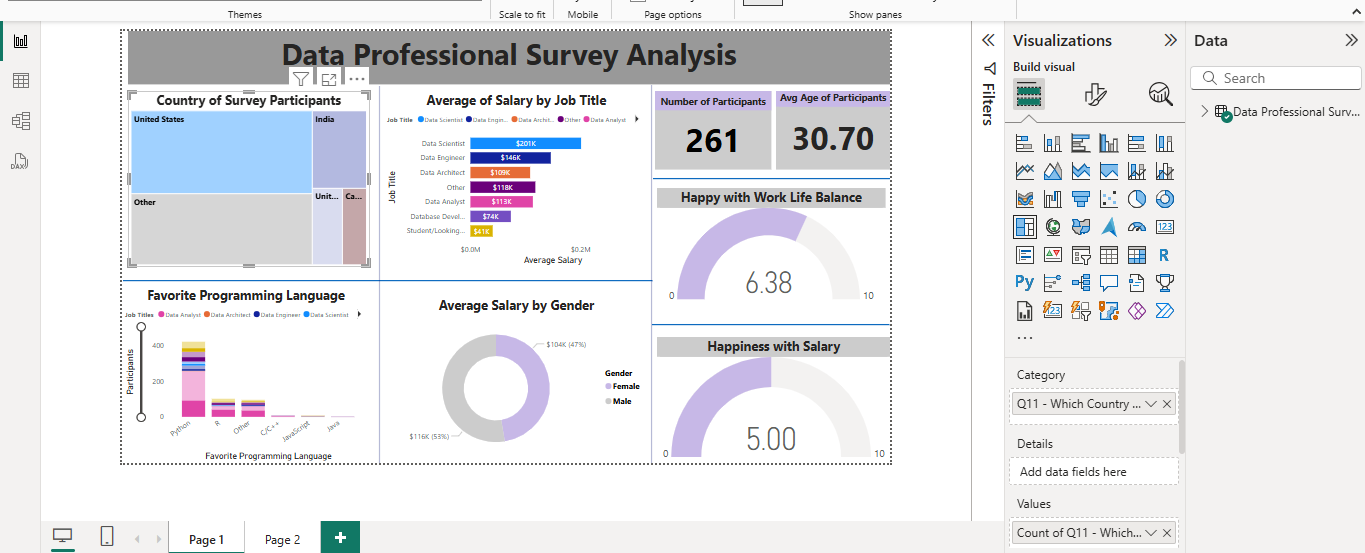

What the dashboard file says about the page in this screenshot:
{"tool":"powerbi","page":{"name":"Page 1","canvas":[1280,720],"ordinal":0},"visuals":[{"type":"textbox","box":[10.1,0,1269.9,89],"z":0},{"type":"card","title":"Number of Participants","fields":{"Values":["Count(Data Professional Survey.Unique ID)"]},"box":[887.6,99.4,193.7,131.4],"z":1000},{"type":"card","title":"Avg Age of Participants","fields":{"Values":["Avg(Data Professional Survey.Q10 - Current Age)"]},"box":[1089.7,99.4,190.3,131.4],"z":2000},{"type":"barChart","title":"Average of Salary by Job Title","fields":{"Category":["Data Professional Survey.Q1 - Which Title Best Fits your Current Role?.1"],"Y":["Avg(Data Professional Survey.Average Salary)"],"Series":["Data Professional Survey.Q1 - Which Title Best Fits your Current Role?.1"]},"box":[436.2,99.4,441.3,294.7],"z":3000},{"type":"columnChart","title":"Favorite Programming Language","fields":{"Category":["Data Professional Survey.Q5 - Favorite Programming Language.1"],"Y":["CountNonNull(Data Professional Survey.Unique ID)"],"Series":["Data Professional Survey.Q1 - Which Title Best Fits your Current Role?.1"]},"box":[0,425,413.2,295.6],"z":4000},{"type":"treemap","title":"Country of Survey Participants","fields":{"Group":["Data Professional Survey.Q11 - Which Country do you live in?.1"],"Values":["CountNonNull(Data Professional Survey.Q11 - Which Country do you live in?.1)"]},"box":[10.1,99.4,402.5,294.7],"z":5000},{"type":"gauge","title":"Happy with Work Life Balance","fields":{"Y":["Avg(Data Professional Survey.Q6 - How Happy are you in your Current Position with the following? (Work/Life Balance))"],"MinValue":["Min(Data Professional Survey.Q6 - How Happy are you in your Current Position with the following? (Work/Life Balance))1"],"MaxValue":["Max(Data Professional Survey.Q6 - How Happy are you in your Current Position with the following? (Work/Life Balance))2"]},"box":[890.9,261.1,380.6,195.4],"z":6000},{"type":"gauge","title":"Happiness with Salary","fields":{"Y":["Avg(Data Professional Survey.Q6 - How Happy are you in your Current Position with the following? (Salary))"],"MinValue":["Min(Data Professional Survey.Q6 - How Happy are you in your Current Position with the following? (Salary))"],"MaxValue":["Max(Data Professional Survey.Q6 - How Happy are you in your Current Position with the following? (Salary))"]},"box":[890.9,510.3,389.1,210.5],"z":7000},{"type":"donutChart","title":"Average Salary by Gender","fields":{"Category":["Data Professional Survey.Q9 - Male/Female?"],"Y":["Avg(Data Professional Survey.Average Salary)"]},"box":[436.2,441.3,441.3,279.6],"z":8000},{"type":"shape","box":[1.7,399.2,882.5,35.4],"z":9000},{"type":"shape","box":[875.8,89.3,15.2,631.6],"z":10000},{"type":"shape","box":[421.1,90.9,15,631.6],"z":11000},{"type":"shape","box":[882.5,474.9,395.8,28.6],"z":12000},{"type":"shape","box":[884.2,232.4,395.8,28.6],"z":13000}]}

Visuals, with their boxes on the page's 1280x720 design canvas (x1, y1, x2, y2). These are canvas units, not pixel positions in the 1365x553 screenshot, which may show the page scaled, cropped or inside an application window:
textbox: (x1=10, y1=0, x2=1280, y2=89)
"Number of Participants" card: (x1=888, y1=99, x2=1081, y2=231)
"Avg Age of Participants" card: (x1=1090, y1=99, x2=1280, y2=231)
"Average of Salary by Job Title" barChart: (x1=436, y1=99, x2=878, y2=394)
"Favorite Programming Language" columnChart: (x1=0, y1=425, x2=413, y2=721)
"Country of Survey Participants" treemap: (x1=10, y1=99, x2=413, y2=394)
"Happy with Work Life Balance" gauge: (x1=891, y1=261, x2=1272, y2=456)
"Happiness with Salary" gauge: (x1=891, y1=510, x2=1280, y2=721)
"Average Salary by Gender" donutChart: (x1=436, y1=441, x2=878, y2=721)
shape: (x1=2, y1=399, x2=884, y2=435)
shape: (x1=876, y1=89, x2=891, y2=721)
shape: (x1=421, y1=91, x2=436, y2=722)
shape: (x1=882, y1=475, x2=1278, y2=504)
shape: (x1=884, y1=232, x2=1280, y2=261)
